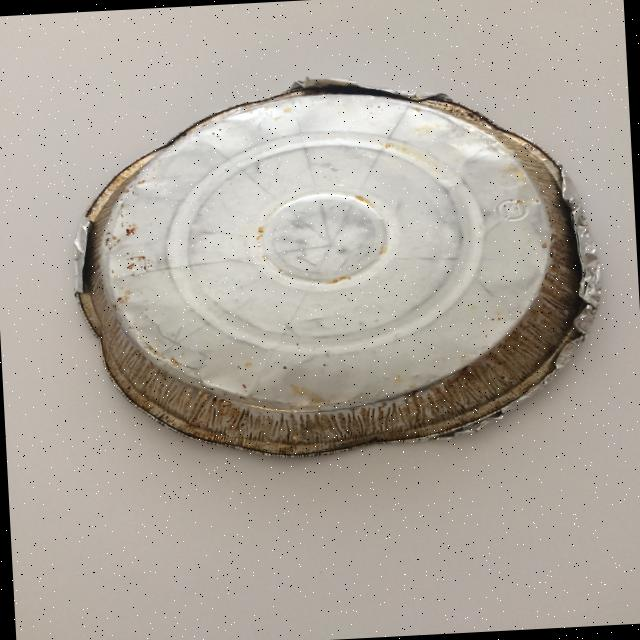metal: (62, 62, 610, 469)
